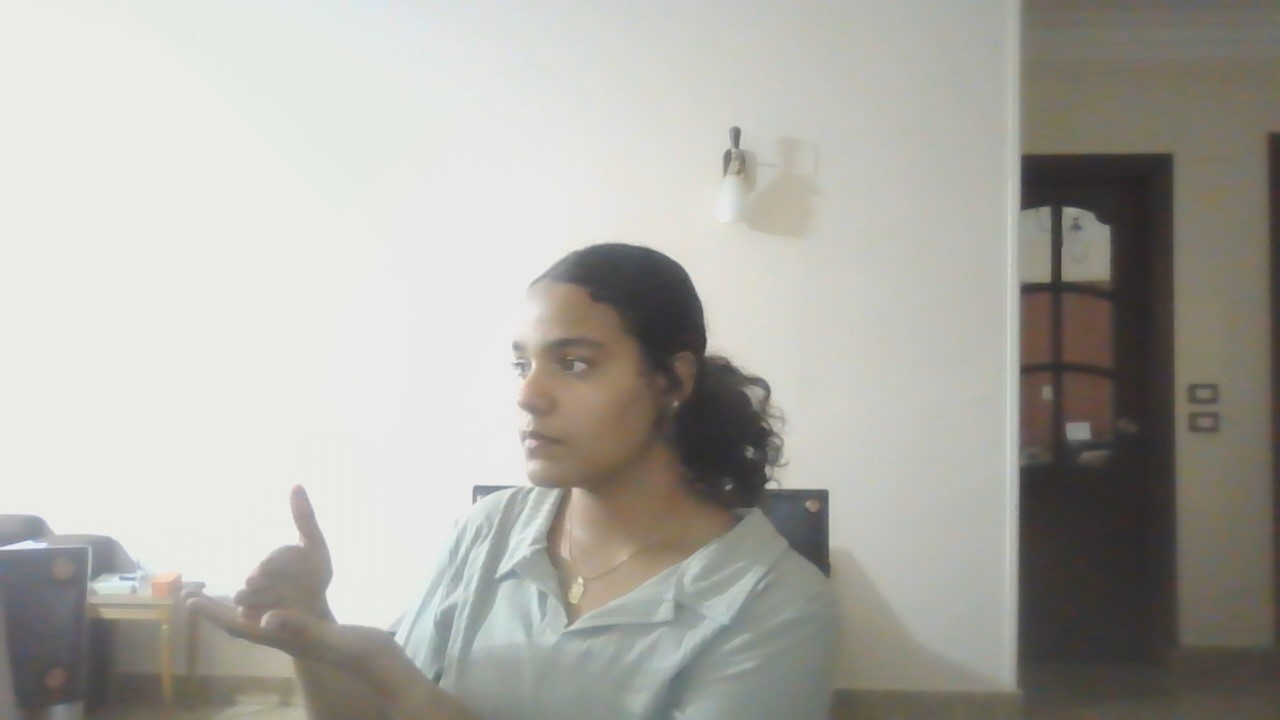stop: (189, 439, 406, 690)
